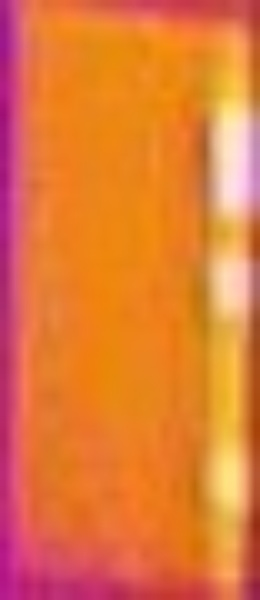Hotspot: (197, 43, 257, 525)
